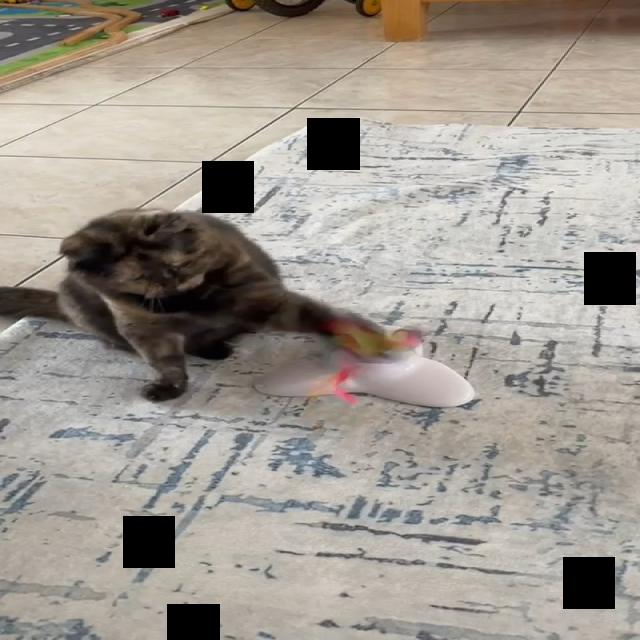authorized: (0, 206, 419, 402)
